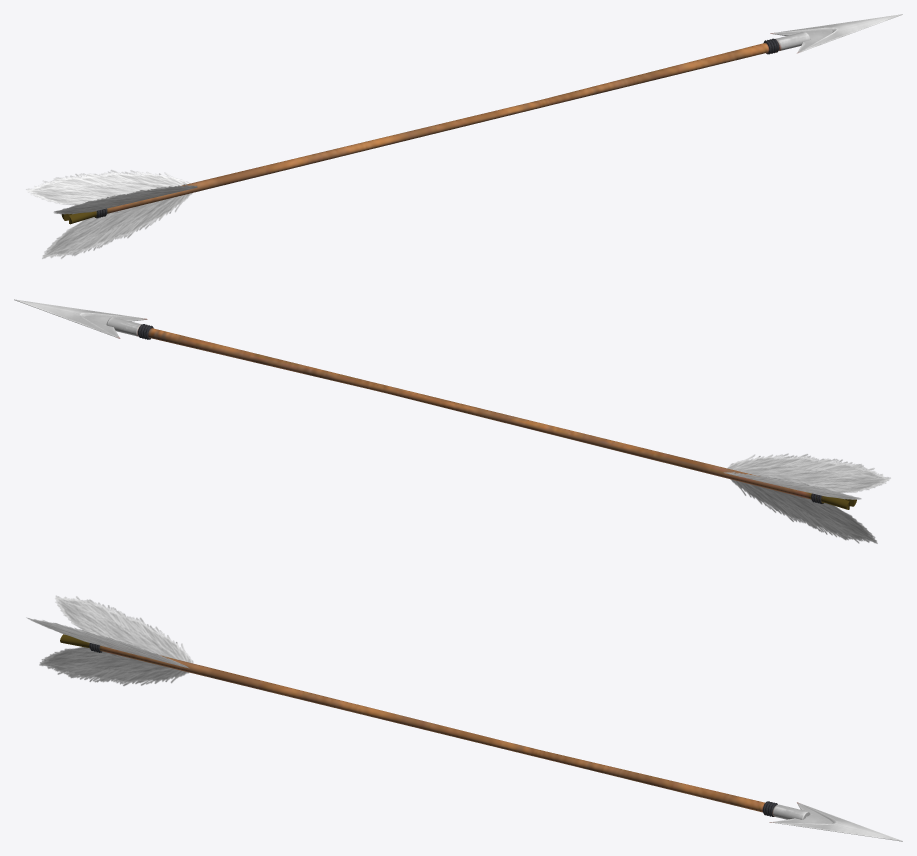
Rendered from arrow-precision.glb.
3 views of the same model, one above another, from view 1: azimuth 30°, elevation 25°; view 2: azimuth 150°, elevation 25°; view 3: azimuth 330°, elevation 25° (orthographic).
Visible parts, largest first — view 1: Object_3, Object_2; view 2: Object_3, Object_2; view 3: Object_3, Object_2.
Boxes of the visible parts, x1,y1,x2,y2 form: Object_3: (61,14,902,224); Object_2: (26,170,197,258); Object_3: (14,299,856,509); Object_2: (723,453,890,543); Object_3: (60,634,902,841); Object_2: (26,595,193,685).
Size of the model in its own units: 5.82 by 0.477 by 0.45.
Materials: 2 (2 with a texture image).
